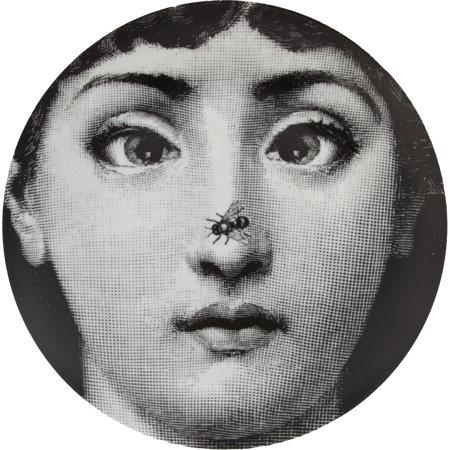person: (28, 18, 419, 433)
